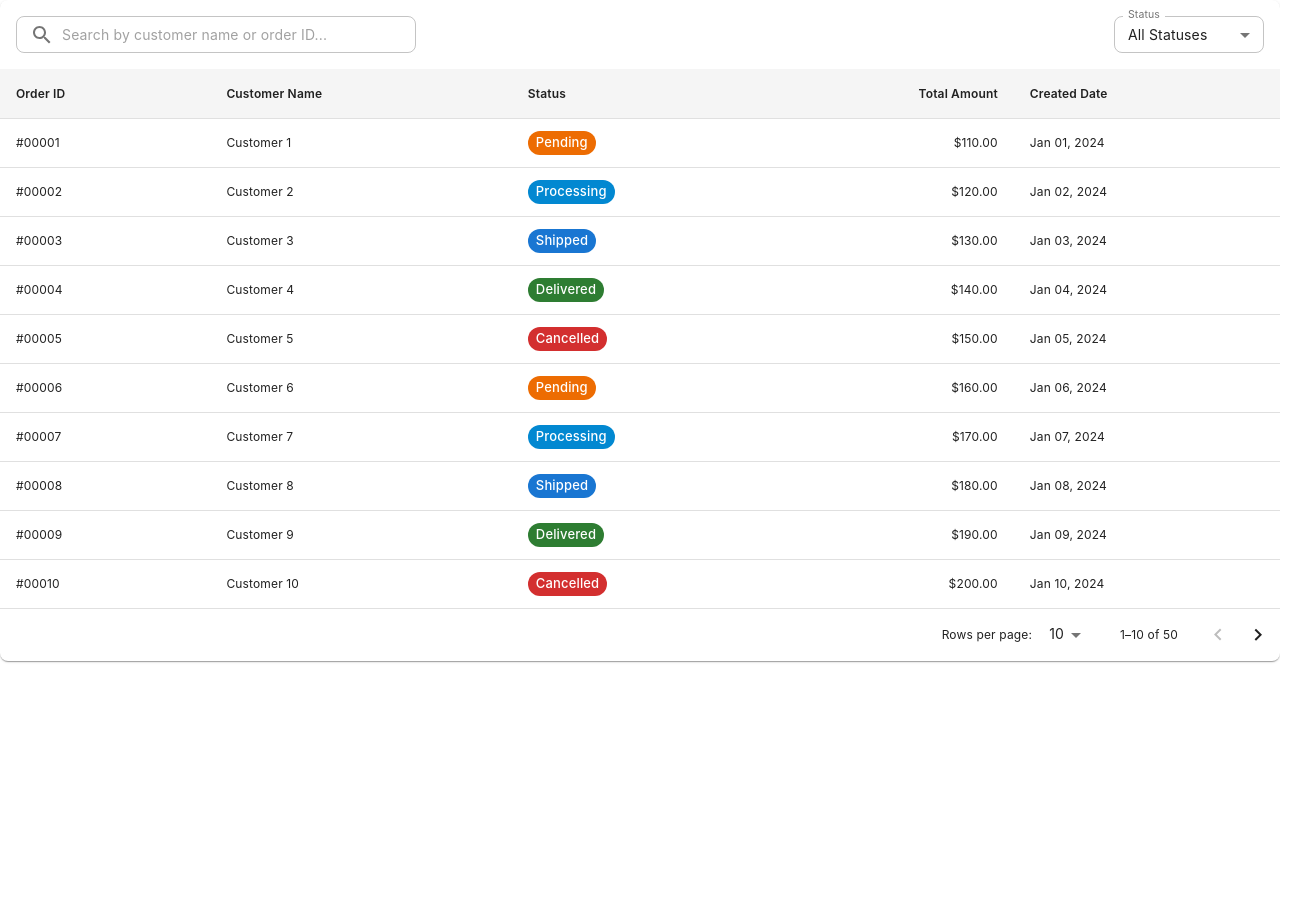
Test: OrdersTable › pagination › displays correct rows per page options including "All"
The image size is (1292, 900).
Click the dropdown named "rows per page" at (1057, 634), box [1049,625,1064,642]
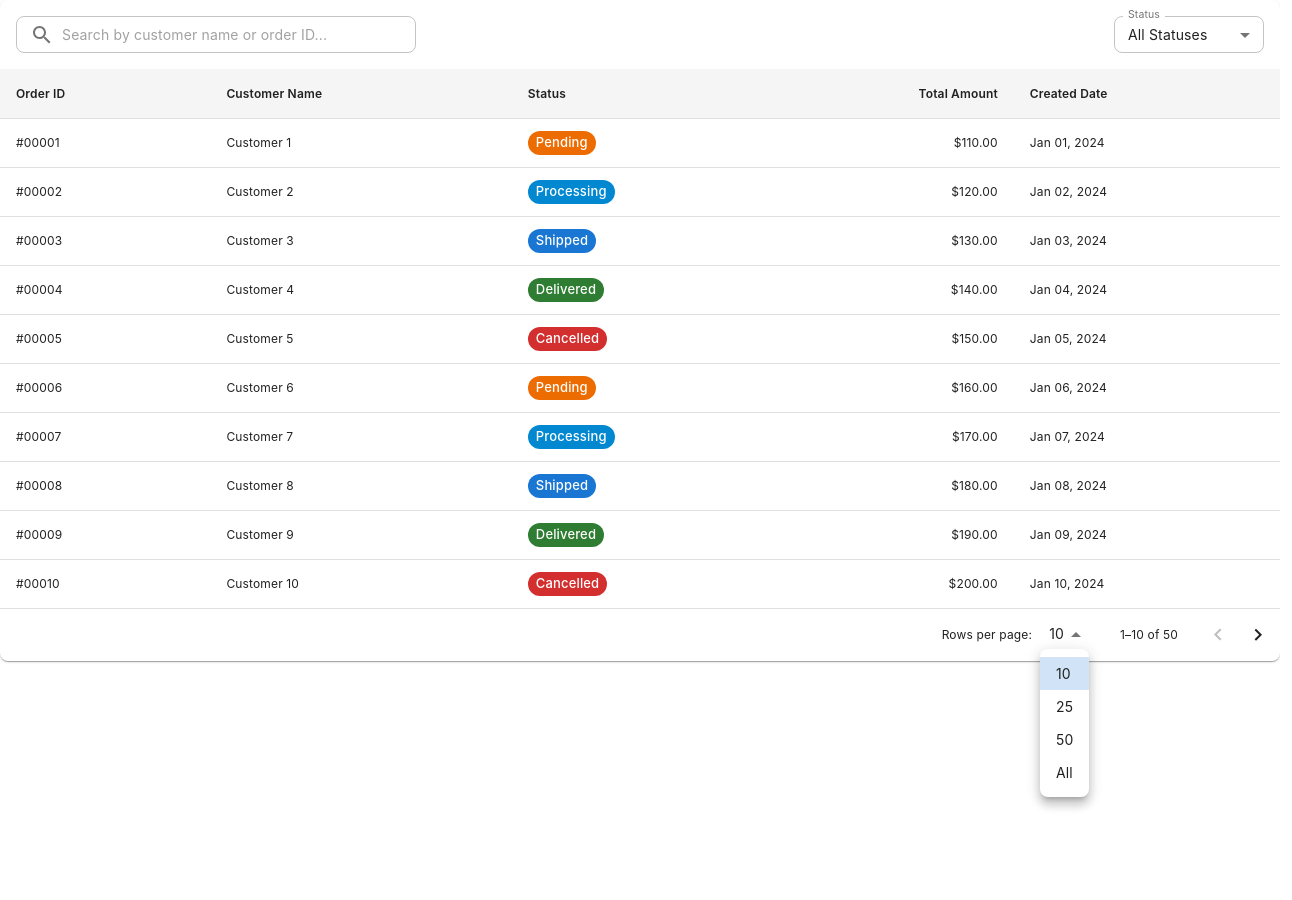
expect the option "10" is shown: met, box [1040,657,1090,690]
expect the option "25" is shown: met, box [1056,698,1073,715]
expect the option "50" is shown: met, box [1056,731,1074,748]
